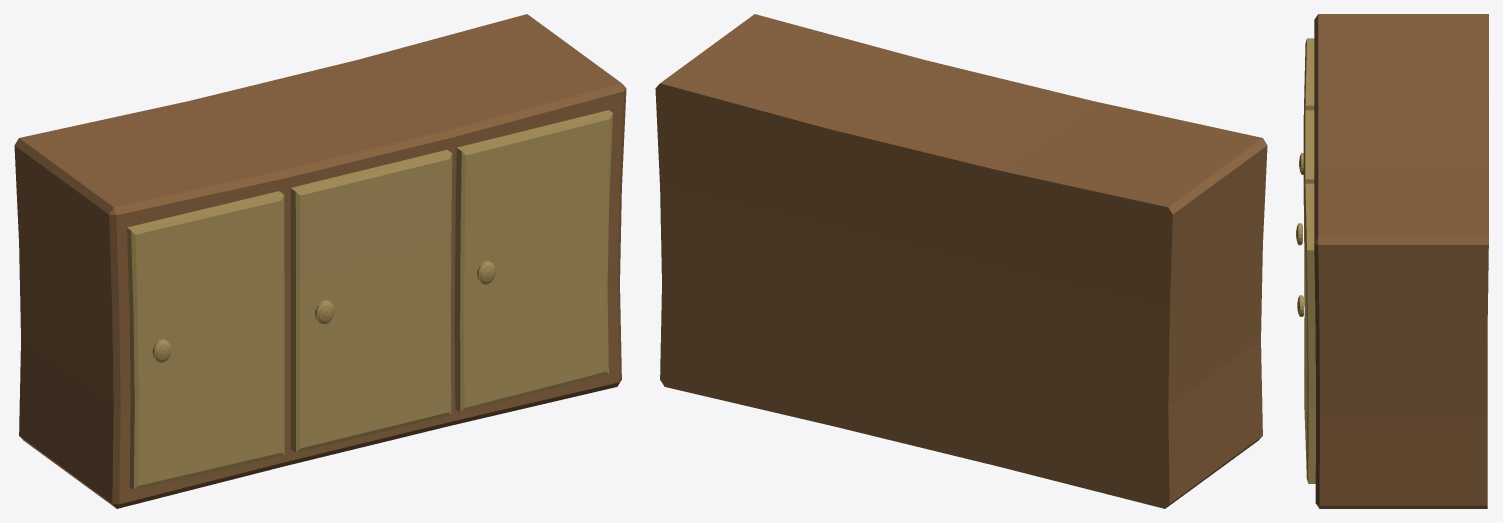
Rendered from KitchenCabinet.fbx.
The picture shows the model from 3 angles, left to right: view 1: azimuth 30°, elevation 25°; view 2: azimuth 150°, elevation 25°; view 3: azimuth 270°, elevation 25°; orthographic projection. The views are drawn at different scales.
Parts seen in each view (by area): view 1: KitchenCabinet; view 2: KitchenCabinet; view 3: KitchenCabinet.
Boxes of the visible parts, <box> form: KitchenCabinet: <box>14,14,626,508</box>; KitchenCabinet: <box>655,14,1267,508</box>; KitchenCabinet: <box>1296,14,1488,508</box>.
Size of the model in its own units: 261 by 146 by 93.37.
